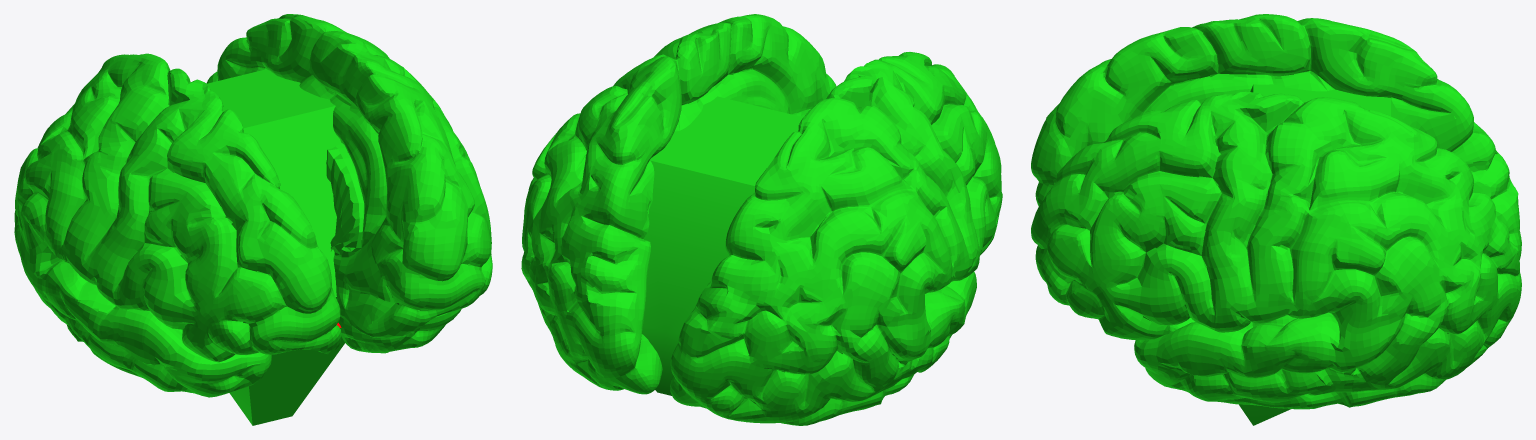
File: Inimigo03_Mapa08_DBZ.FBX
3 renders of one model, left to right at view 1: azimuth 30°, elevation 25°; view 2: azimuth 150°, elevation 25°; view 3: azimuth 270°, elevation 25°, orthographic.
Parts seen in each view (by area): view 1: Brain; view 2: Brain; view 3: Brain.
Part boxes in pixels (x1,y1,x2,y2): Brain: (14,14,492,425); Brain: (521,14,1002,425); Brain: (1031,14,1521,425).
Size of the model in its own units: 316 by 276 by 340.
